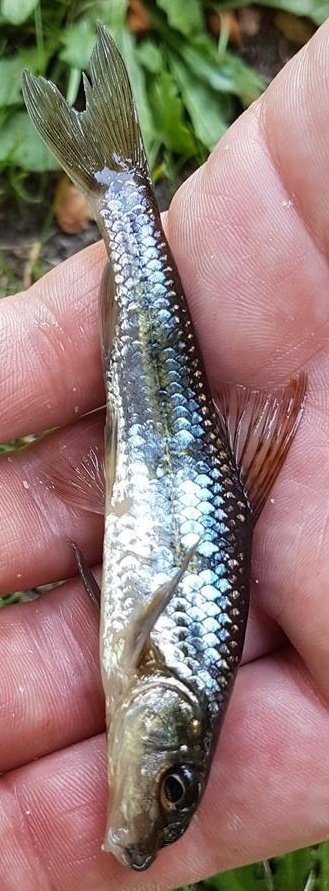Gobio gobio: (20, 20, 309, 871)
